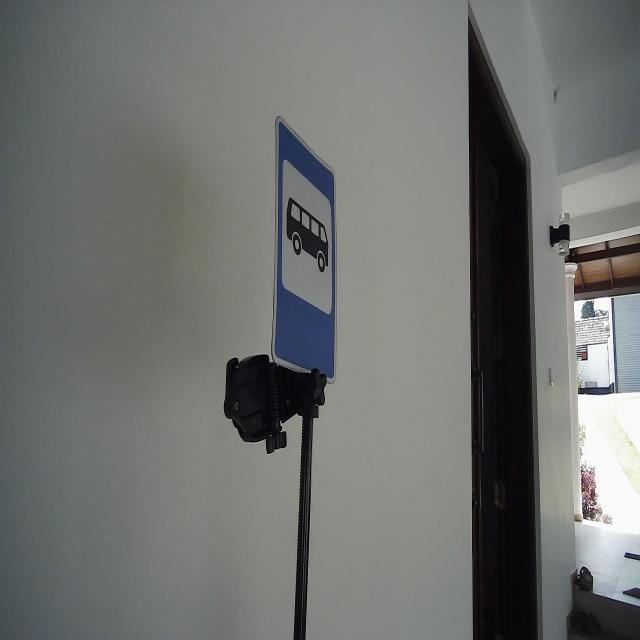bus_stop: (270, 110, 340, 383)
